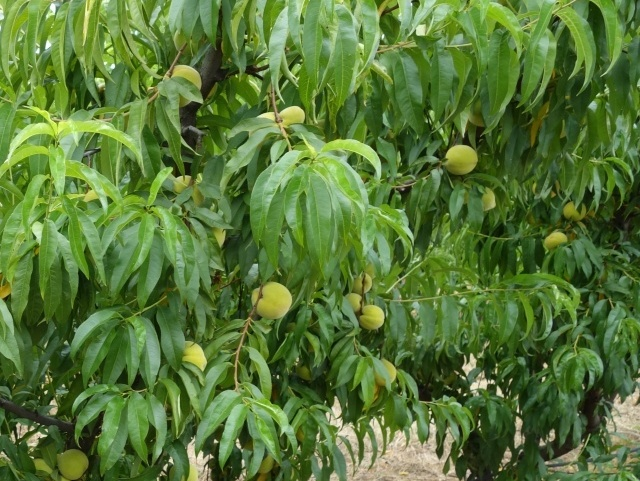peach: (161, 59, 206, 108), (249, 278, 294, 322), (444, 138, 480, 178), (56, 444, 90, 480), (177, 338, 209, 374), (276, 103, 309, 134), (369, 356, 400, 386), (358, 303, 390, 332), (541, 228, 569, 253), (562, 196, 588, 222), (478, 185, 501, 214), (342, 287, 364, 316), (349, 270, 374, 295)
